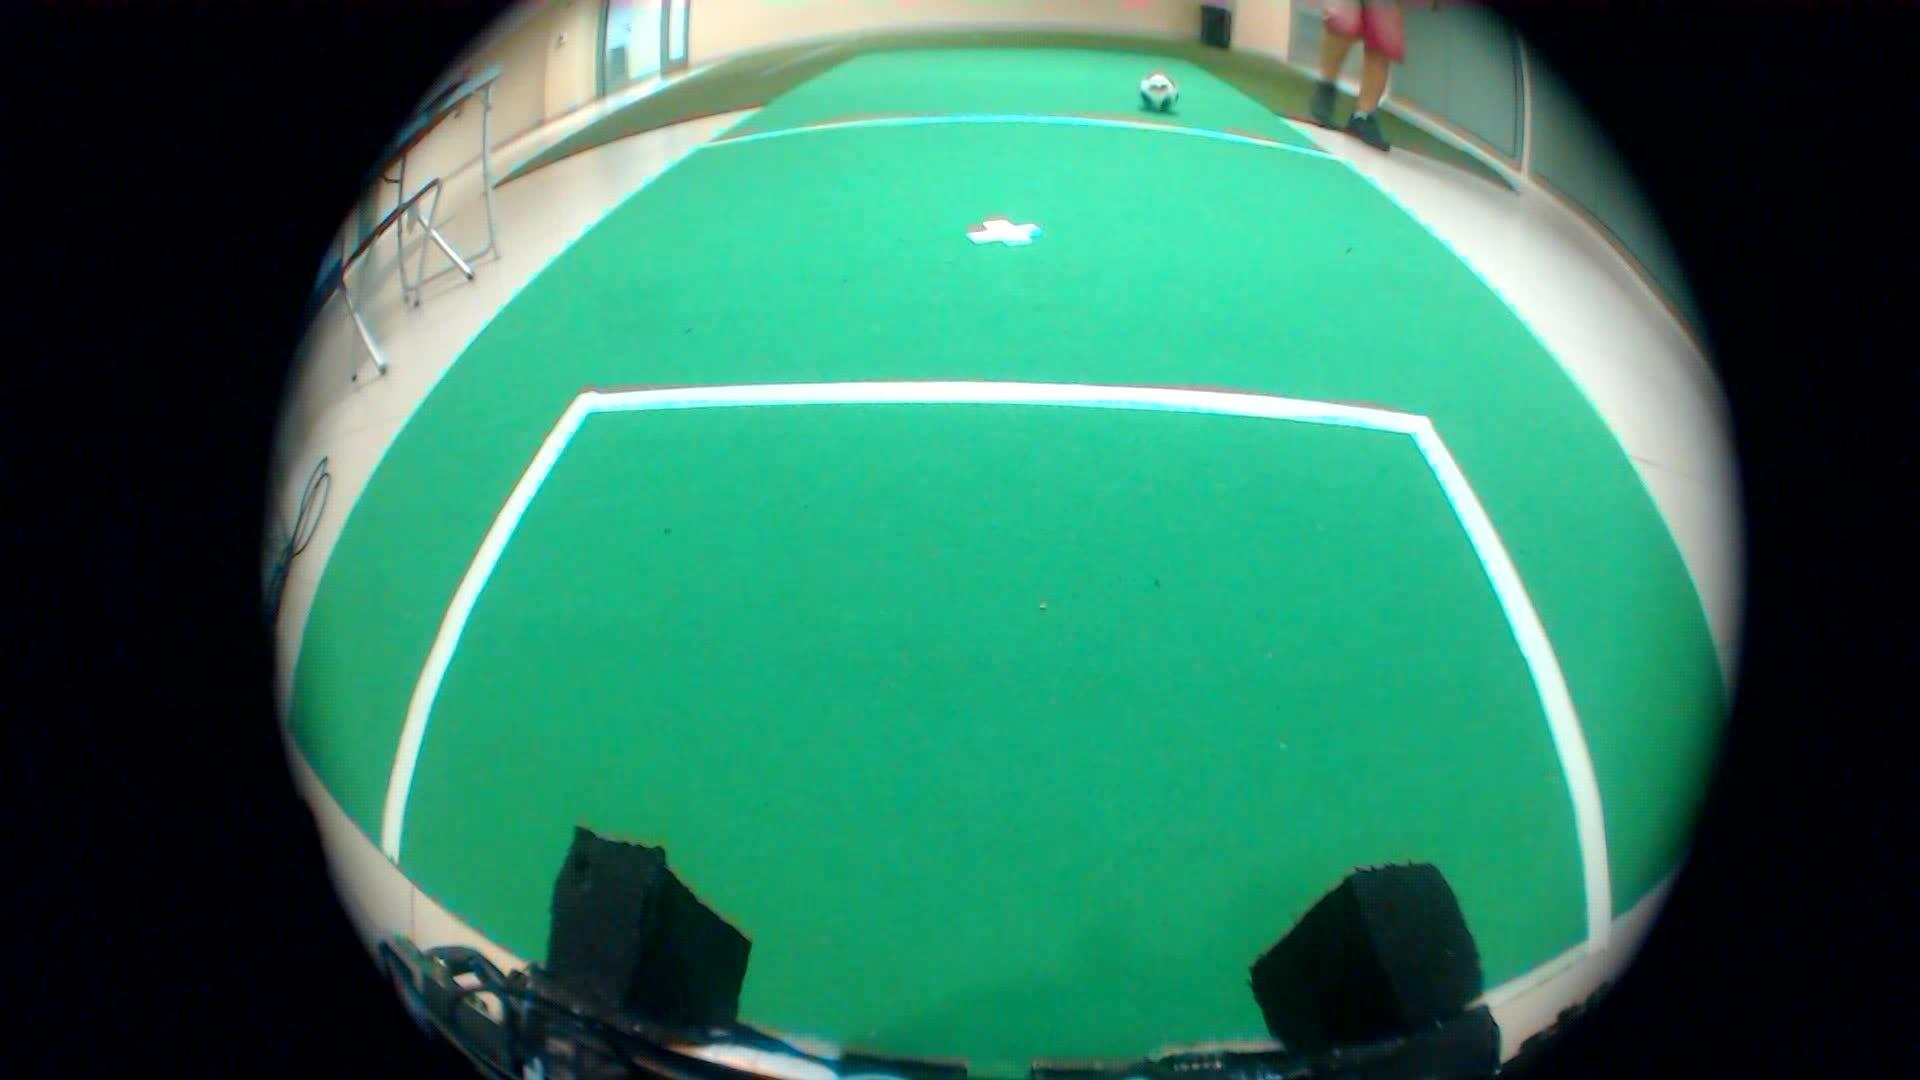ball: (1129, 62, 1191, 131)
